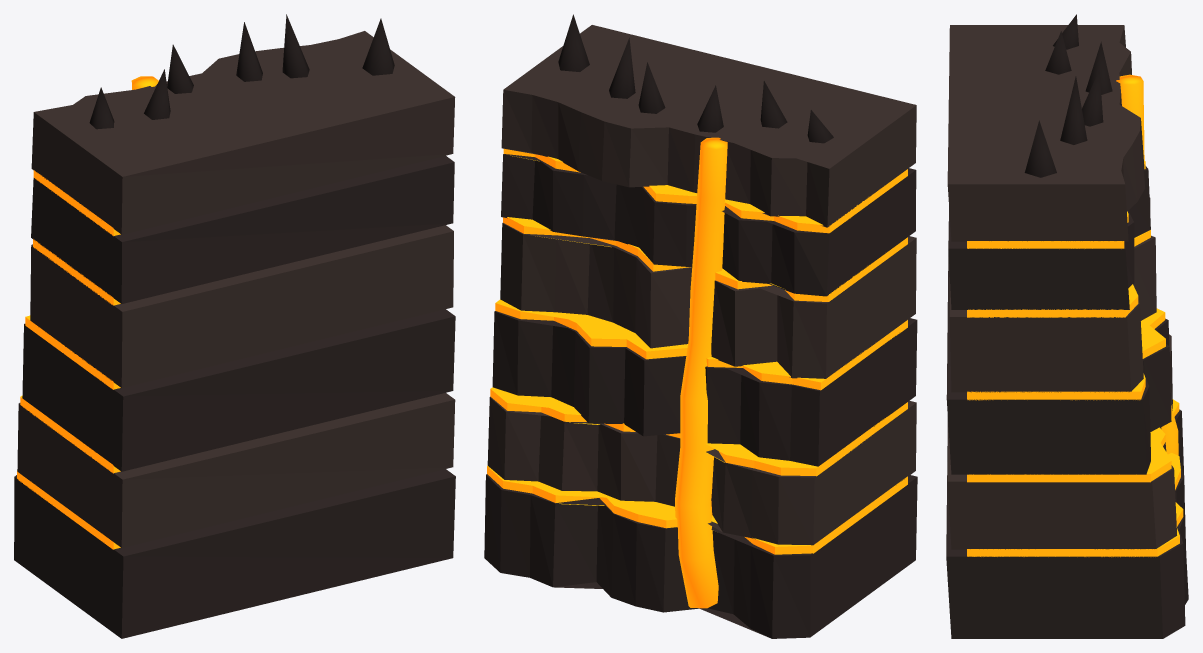
The model's file is Cliff_Lava.glb.
The picture shows the model from 3 angles, left to right: view 1: azimuth 30°, elevation 25°; view 2: azimuth 150°, elevation 25°; view 3: azimuth 270°, elevation 25°; orthographic projection.
Visible parts, largest first — view 1: RockLight, Rock, Spikes, Magma; view 2: RockLight, Rock, Magma, Spikes; view 3: RockLight, Rock, Magma, Spikes.
Part boxes in pixels (bbox=[...]): RockLight: bbox=[17, 31, 455, 547]; Rock: bbox=[14, 155, 455, 638]; Spikes: bbox=[89, 14, 394, 129]; Magma: bbox=[17, 76, 158, 549]; RockLight: bbox=[487, 25, 916, 545]; Rock: bbox=[484, 154, 917, 638]; Magma: bbox=[487, 137, 907, 608]; Spikes: bbox=[558, 14, 833, 143]; RockLight: bbox=[947, 25, 1176, 549]; Rock: bbox=[946, 166, 1188, 638]; Magma: bbox=[967, 74, 1183, 557]; Spikes: bbox=[1024, 14, 1112, 177].
Bounding box in the file's own units: 24 × 36.17 × 15.46.
